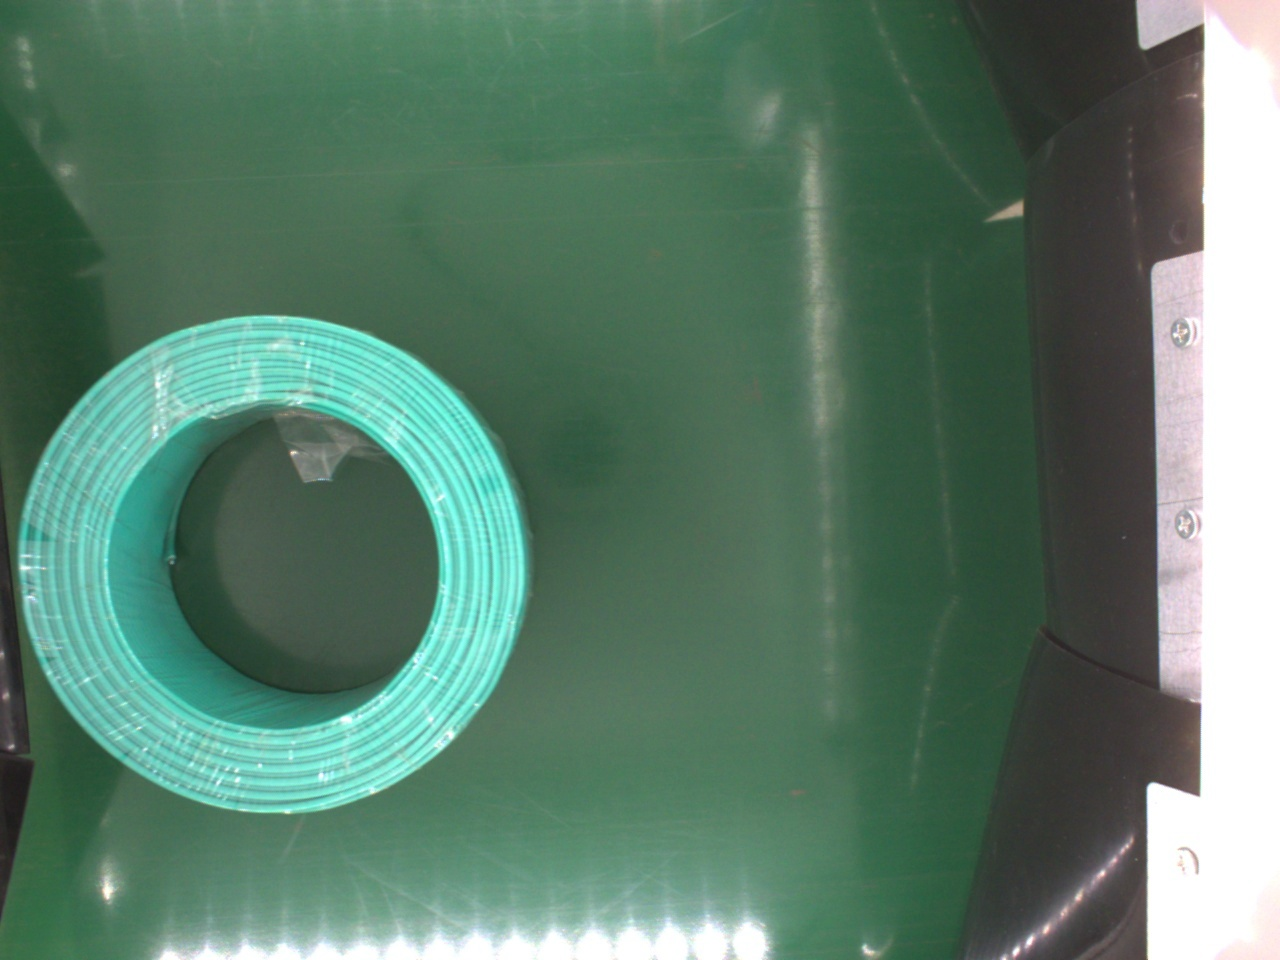green: (12, 315, 528, 816)
